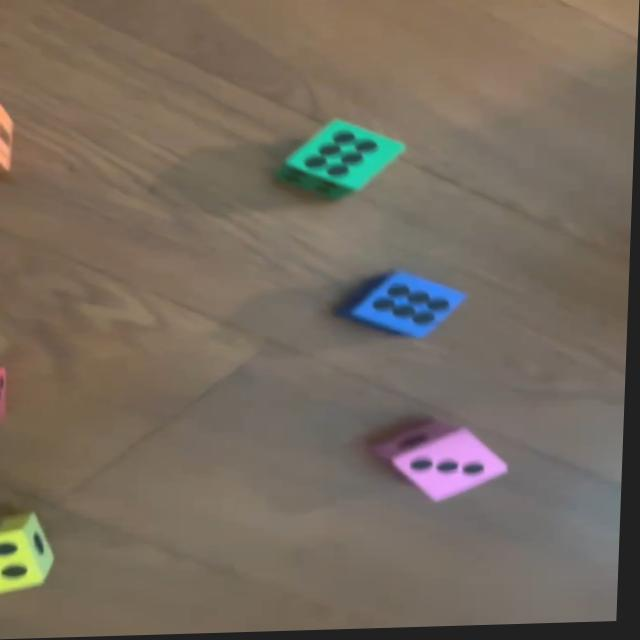blue_block: (343, 271, 474, 343)
red_block: (0, 366, 11, 426)
